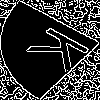K: (25, 25, 100, 79)
